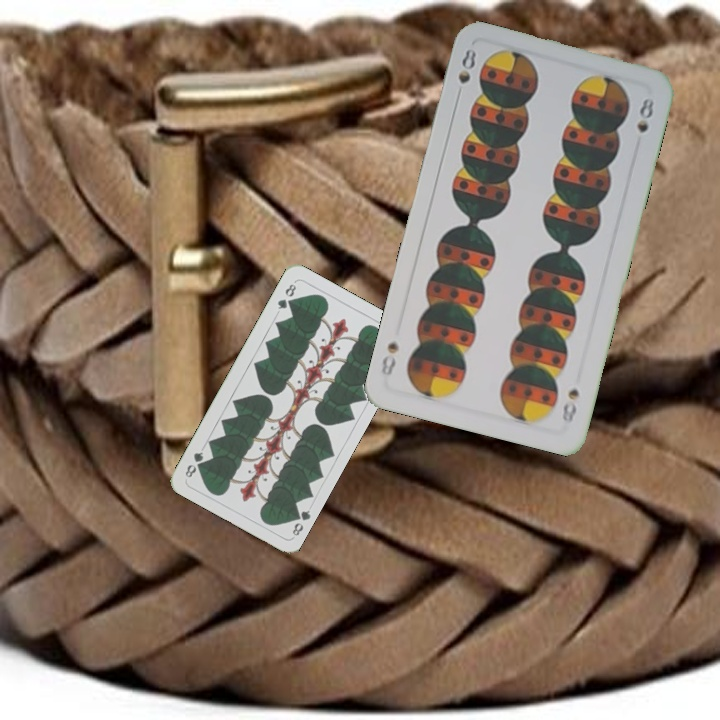G8: (273, 280, 299, 312), (288, 506, 313, 538)
S8: (452, 44, 479, 102), (558, 384, 582, 427)
